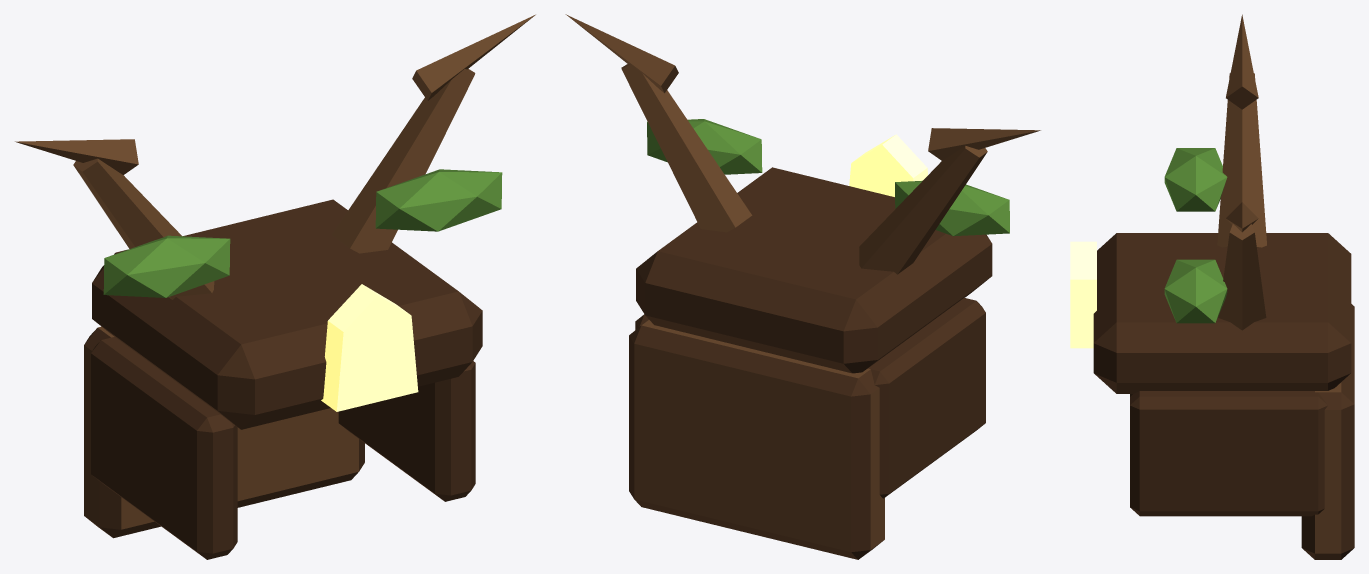
File: keeper_crown.glb
3 renders of one model, left to right at view 1: azimuth 30°, elevation 25°; view 2: azimuth 150°, elevation 25°; view 3: azimuth 270°, elevation 25°, orthographic. The views are drawn at different scales.
Parts seen in each view (by area): view 1: keeper_crown; view 2: keeper_crown; view 3: keeper_crown.
Part boxes in pixels (<box>): keeper_crown: <box>15,14,535,559</box>; keeper_crown: <box>565,14,1040,559</box>; keeper_crown: <box>1070,14,1354,559</box>.
Bounding box in the file's own units: 0.7691 × 0.6508 × 0.43.
